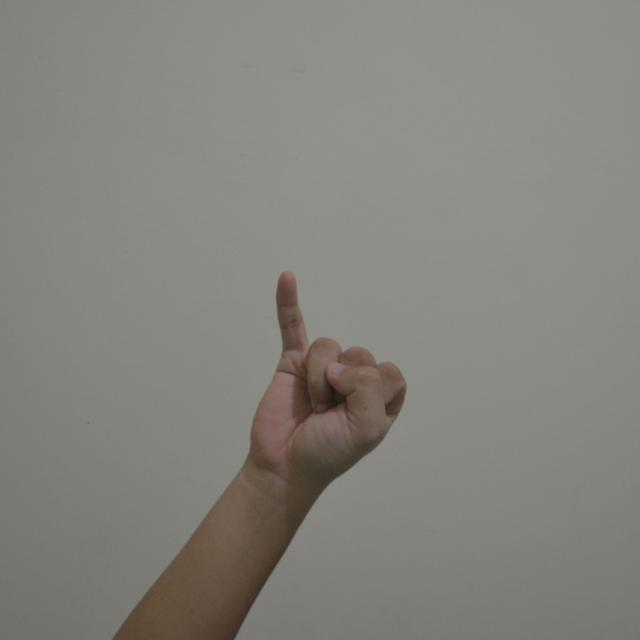I: (236, 264, 414, 482)
